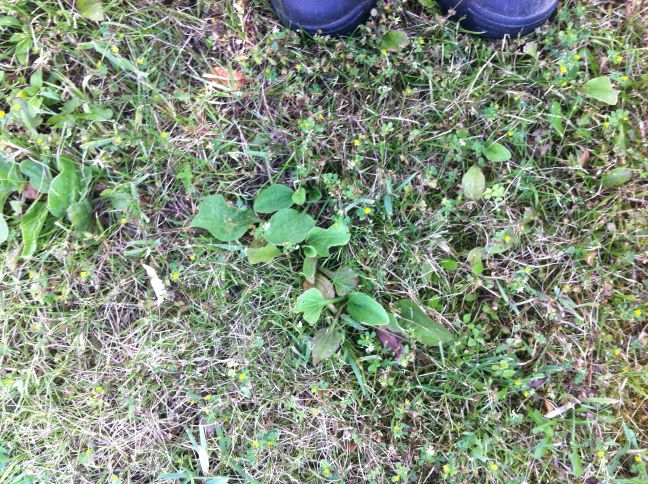weed1: (178, 175, 358, 277), (286, 264, 454, 360)
